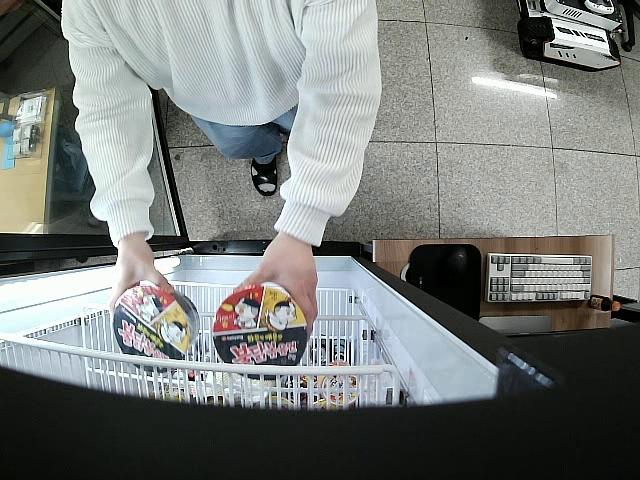00_hand: (231, 231, 318, 348), (106, 235, 174, 314)
07_buldak_L: (211, 287, 311, 368), (111, 285, 199, 358)
